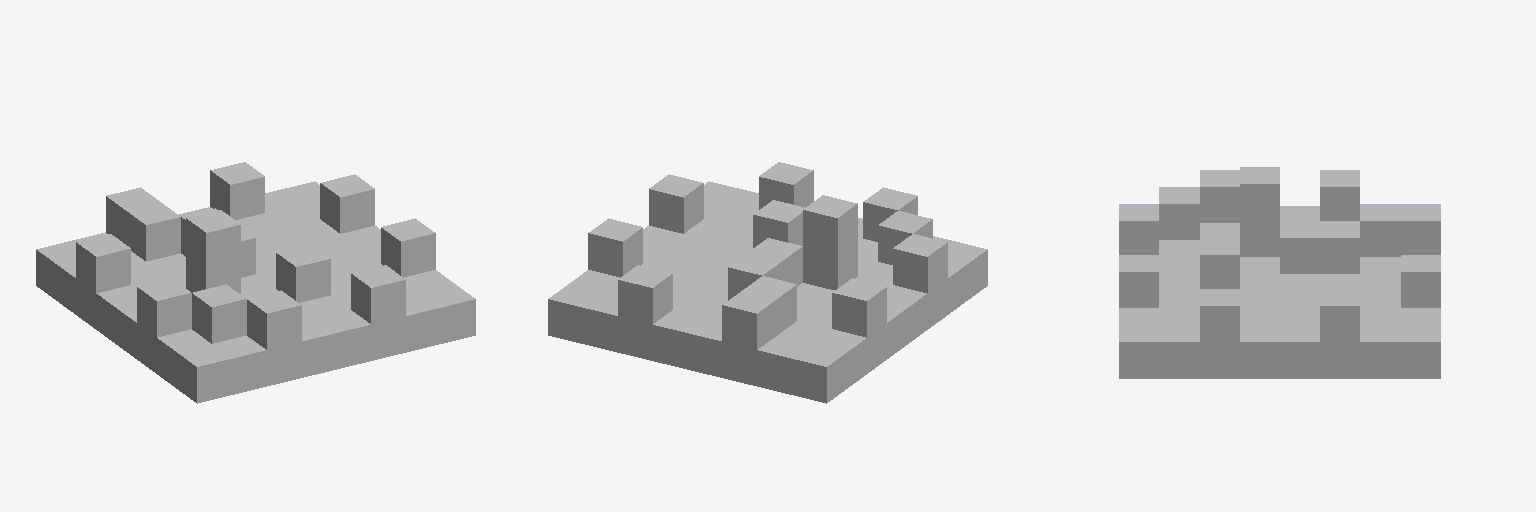
The model's file is NewGrass2.obj.
The picture shows the model from 3 angles: view 1: azimuth 30°, elevation 25°; view 2: azimuth 150°, elevation 25°; view 3: azimuth 270°, elevation 25°; orthographic projection.
Parts seen in each view (by area): view 1: object 1; view 2: object 1; view 3: object 1.
Boxes of the visible parts, x1,y1,x2,y2 form: object 1: [36, 162, 475, 403]; object 1: [548, 162, 987, 403]; object 1: [1119, 167, 1440, 378].
Size of the model in its own units: 0.8 by 0.3 by 0.8.